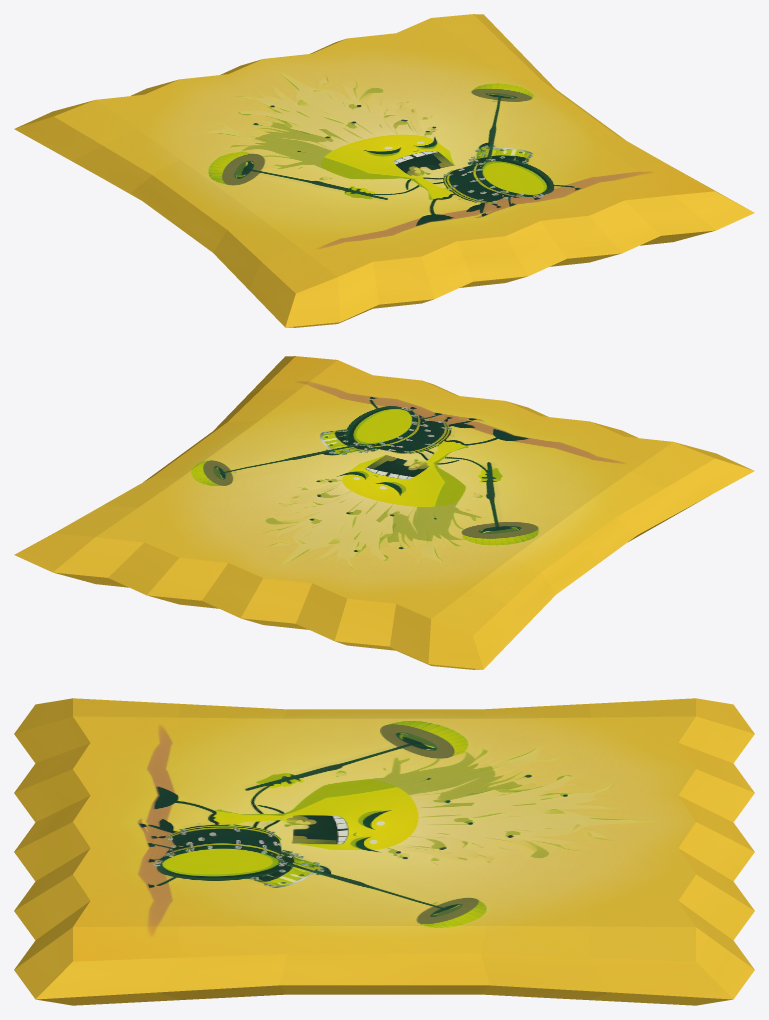
Rendered from Sachet.fbx.
3 views of the same model, one above another, from view 1: azimuth 30°, elevation 25°; view 2: azimuth 150°, elevation 25°; view 3: azimuth 270°, elevation 25° (orthographic). The views are drawn at different scales.
Parts seen in each view (by area): view 1: Sachet_Milieu, Sachet_Bas, Sachet_Haut; view 2: Sachet_Milieu, Sachet_Haut, Sachet_Bas; view 3: Sachet_Milieu, Sachet_Bas, Sachet_Haut.
Part boxes in pixels (box(x1,y1,x2,y2)): Sachet_Milieu: box(73, 47, 665, 289); Sachet_Bas: box(249, 163, 754, 327); Sachet_Haut: box(14, 14, 519, 174); Sachet_Milieu: box(103, 389, 695, 631); Sachet_Haut: box(14, 505, 519, 669); Sachet_Bas: box(249, 356, 754, 514); Sachet_Milieu: box(157, 704, 611, 999); Sachet_Bas: box(14, 698, 185, 1005); Sachet_Haut: box(583, 698, 754, 1005).
Size of the model in its own units: 11.2 by 1.07 by 11.89.
